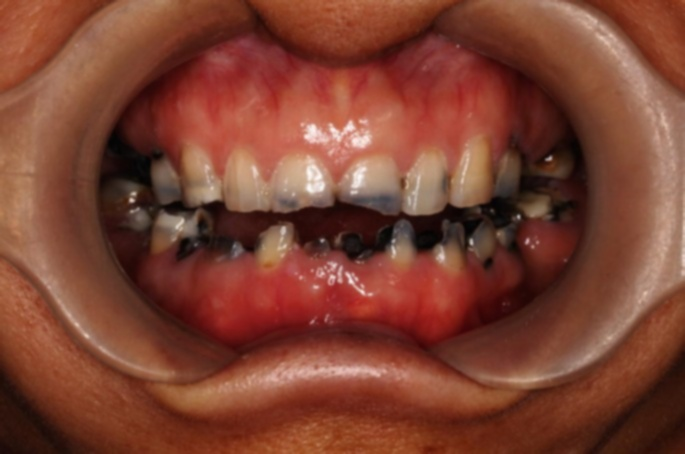karies: (465, 216, 496, 273), (338, 190, 401, 218), (271, 188, 335, 213), (209, 235, 248, 267), (494, 211, 521, 256), (427, 220, 460, 254), (540, 197, 578, 225), (303, 231, 333, 261), (338, 233, 368, 261), (375, 222, 401, 250), (249, 231, 272, 260), (533, 145, 560, 169), (144, 140, 167, 163), (175, 238, 196, 261), (441, 173, 455, 194), (397, 173, 412, 192), (507, 133, 521, 152), (197, 214, 209, 231), (490, 171, 500, 188)
